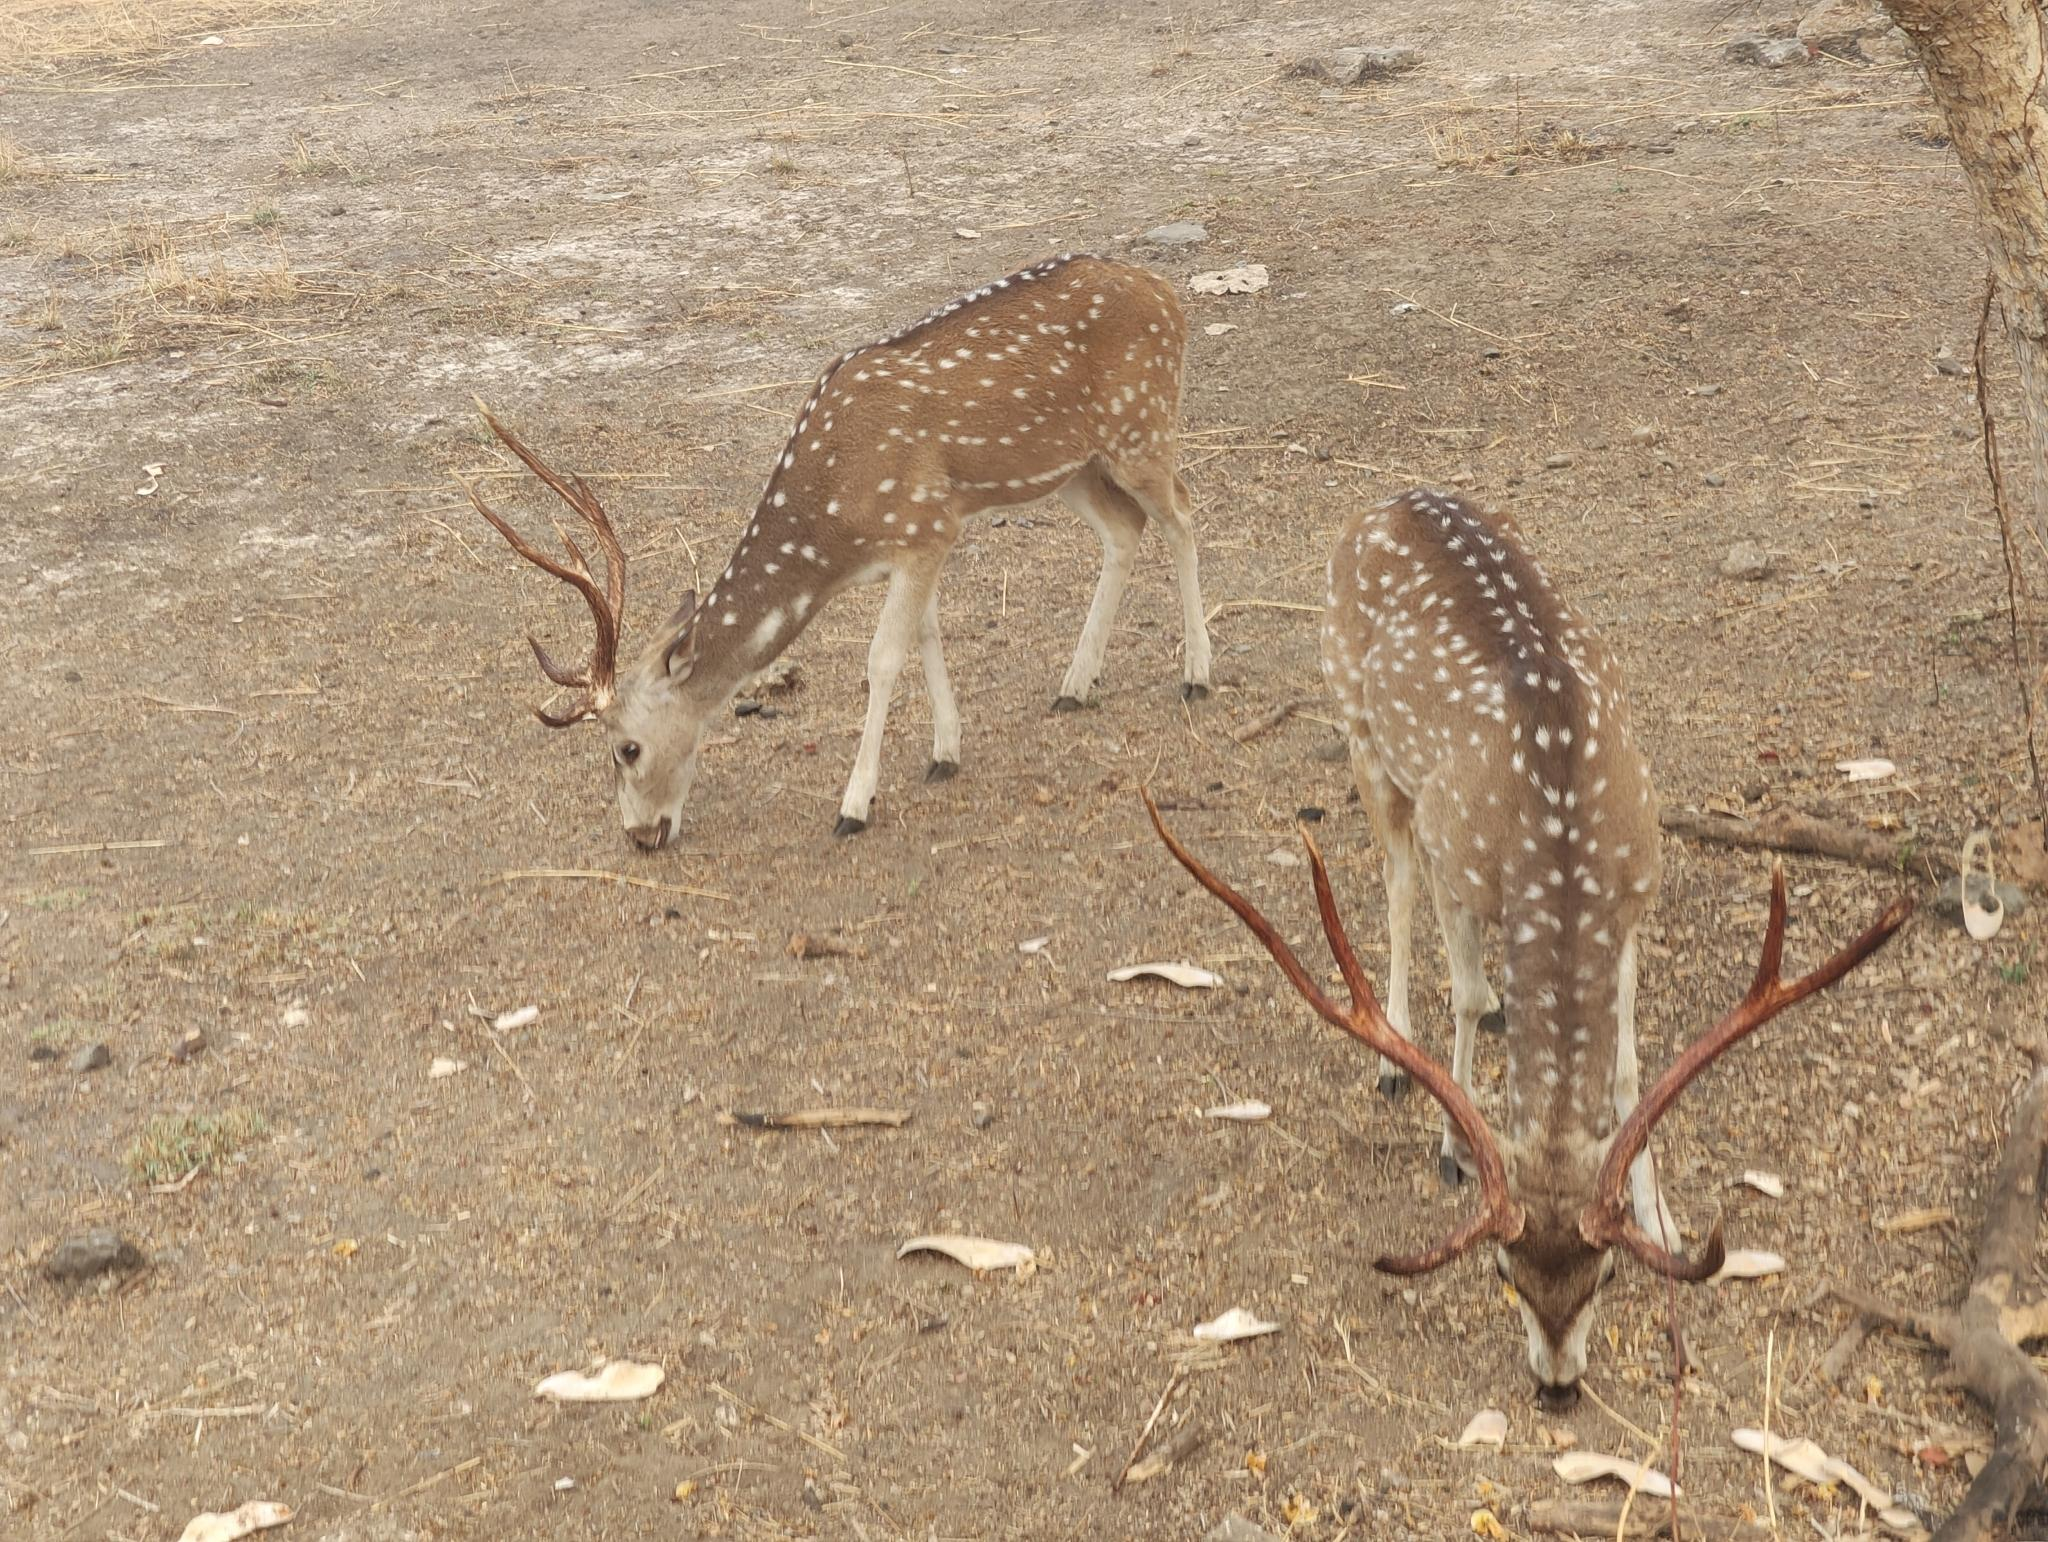Deer: (1140, 489, 1912, 1387), (474, 254, 1209, 849)
